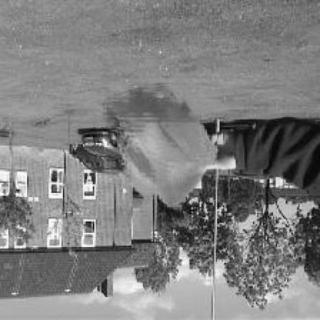other: (92, 82, 226, 208)
